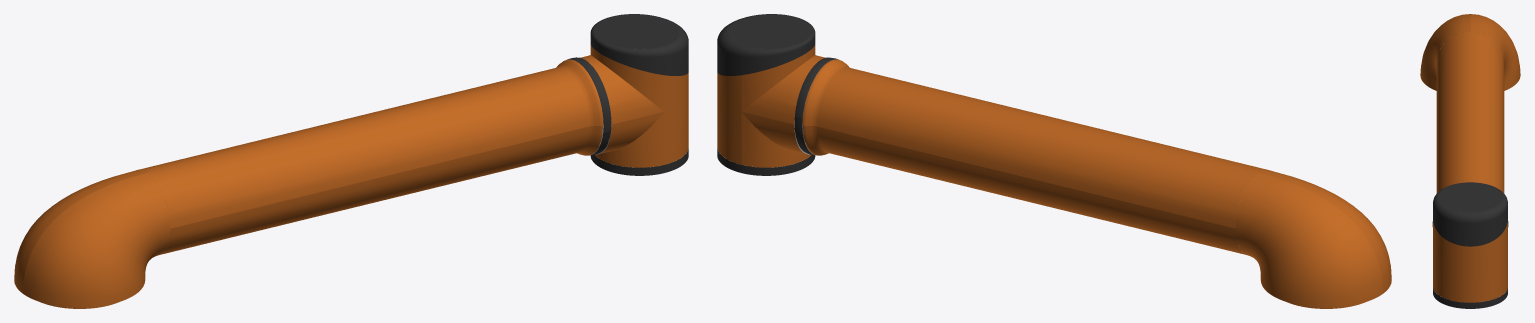
The picture shows the model from 3 angles, left to right: view 1: azimuth 30°, elevation 25°; view 2: azimuth 150°, elevation 25°; view 3: azimuth 270°, elevation 25°; orthographic projection. The views are drawn at different scales.
Visible parts, largest first — view 1: mesh; view 2: mesh; view 3: mesh.
Part boxes in pixels (x1,y1,x2,y2): mesh: (14, 14, 688, 308); mesh: (717, 14, 1391, 308); mesh: (1420, 14, 1520, 308).
Size of the model in its own units: 674 by 116 by 122.
